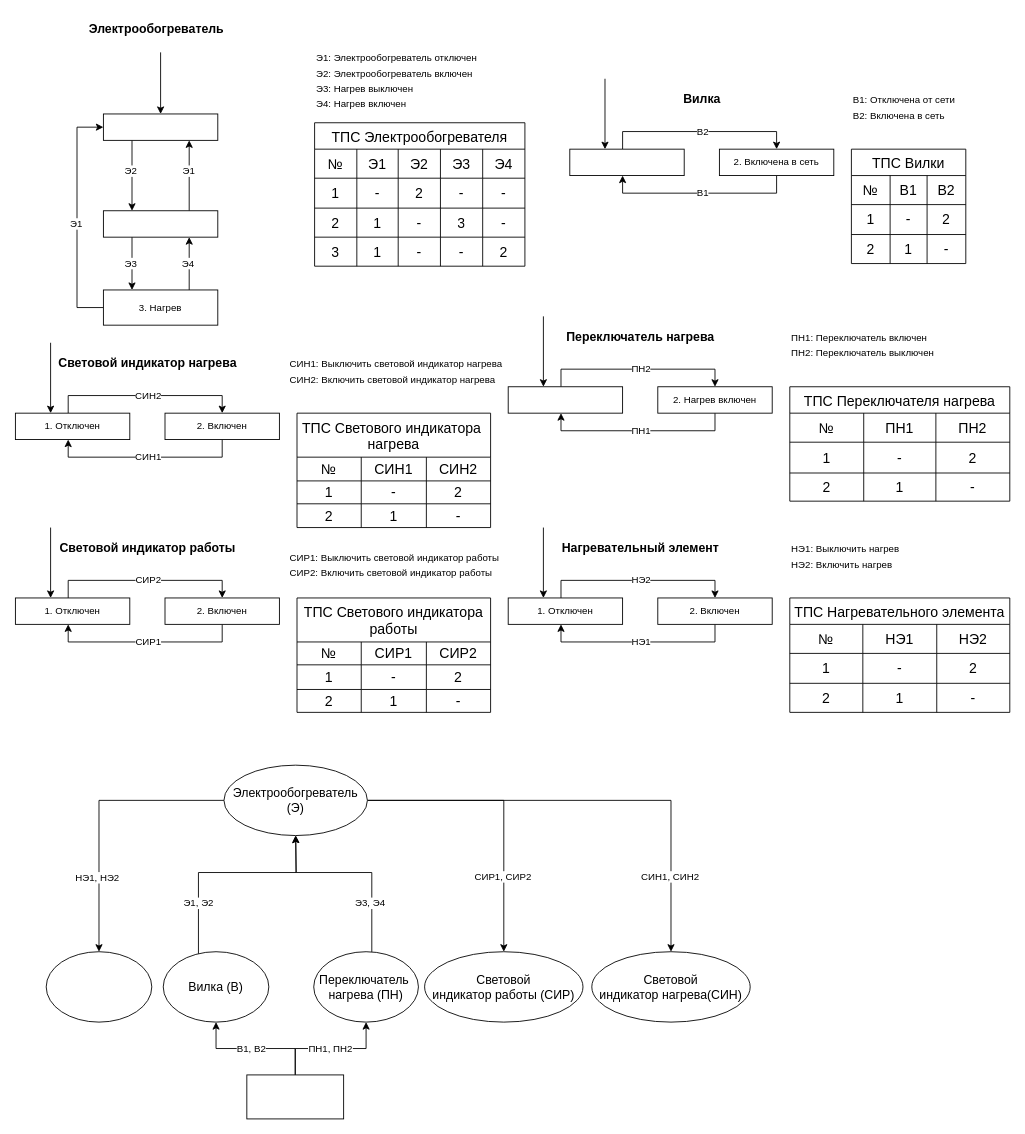
The diagram is 1025 pixels wide and 1134 high, and some of its shapes have lost their labels. Each missing label, with the centre of its shape:
1. Выключен: (x=160, y=126)
1. Нагрев отключен: (x=565, y=399)
1. Отключена от сети: (x=626, y=162)
2. Ожидание: (x=160, y=223)
Нагревательный элемент (НЭ): (x=98, y=986)
Пользователь: (x=295, y=1096)
